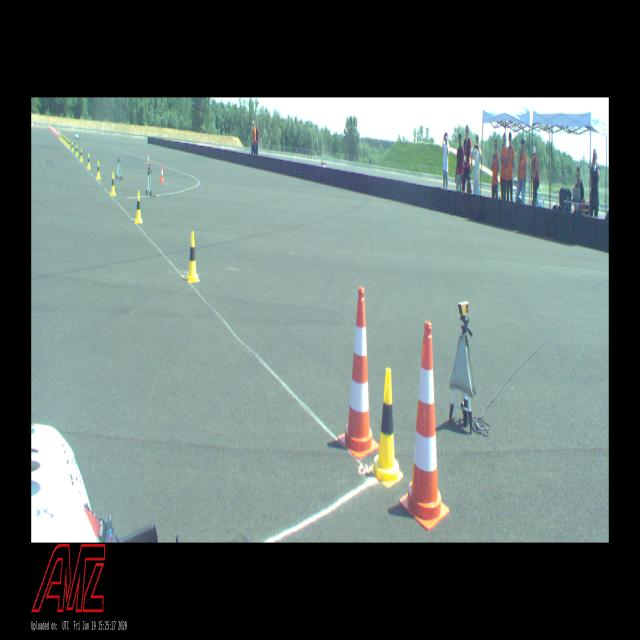large_orange_cone: (400, 321, 449, 530), (338, 287, 379, 460)
orange_cone: (160, 166, 164, 182), (148, 153, 149, 163)
yellow_cone: (370, 368, 403, 487), (185, 232, 200, 282), (134, 191, 142, 223), (110, 172, 116, 195), (96, 161, 101, 179), (87, 154, 91, 169), (80, 148, 83, 161), (76, 145, 78, 156), (72, 142, 74, 152), (68, 139, 70, 148), (64, 136, 65, 144), (66, 138, 67, 145), (62, 134, 63, 141)
